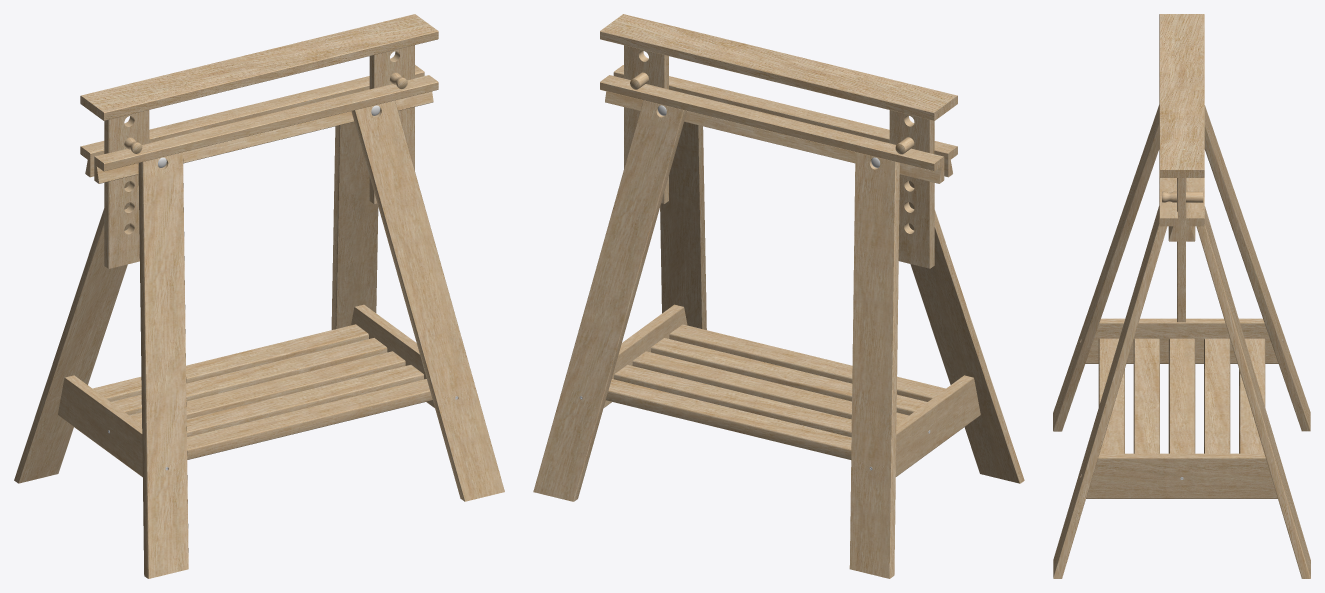
File: trestle_adjustable.glb
3 views of the same model, side by side, from view 1: azimuth 30°, elevation 25°; view 2: azimuth 150°, elevation 25°; view 3: azimuth 270°, elevation 25° (orthographic). The views are drawn at different scales.
Parts seen in each view (by area): view 1: Finnvard Trestle Base_15, Trestle T_14, Trestle Top.001_0; view 2: Finnvard Trestle Base_15, Trestle T_14, Trestle Top.001_0; view 3: Finnvard Trestle Base_15, Trestle T_14, Trestle Top.001_0, Peg R_13.
Part boxes in pixels (x1,y1,x2,y2): Finnvard Trestle Base_15: [14, 65, 504, 578]; Trestle T_14: [80, 14, 438, 268]; Trestle Top.001_0: [94, 75, 438, 183]; Finnvard Trestle Base_15: [533, 75, 1024, 578]; Trestle T_14: [600, 14, 957, 268]; Trestle Top.001_0: [613, 65, 957, 177]; Finnvard Trestle Base_15: [1053, 105, 1310, 578]; Trestle T_14: [1159, 14, 1204, 322]; Trestle Top.001_0: [1159, 178, 1177, 241]; Peg R_13: [1162, 191, 1203, 202].
Bounding box in the file's own units: 0.6985 × 0.7903 × 0.4572.
Materials: 2 (1 with a texture image).
